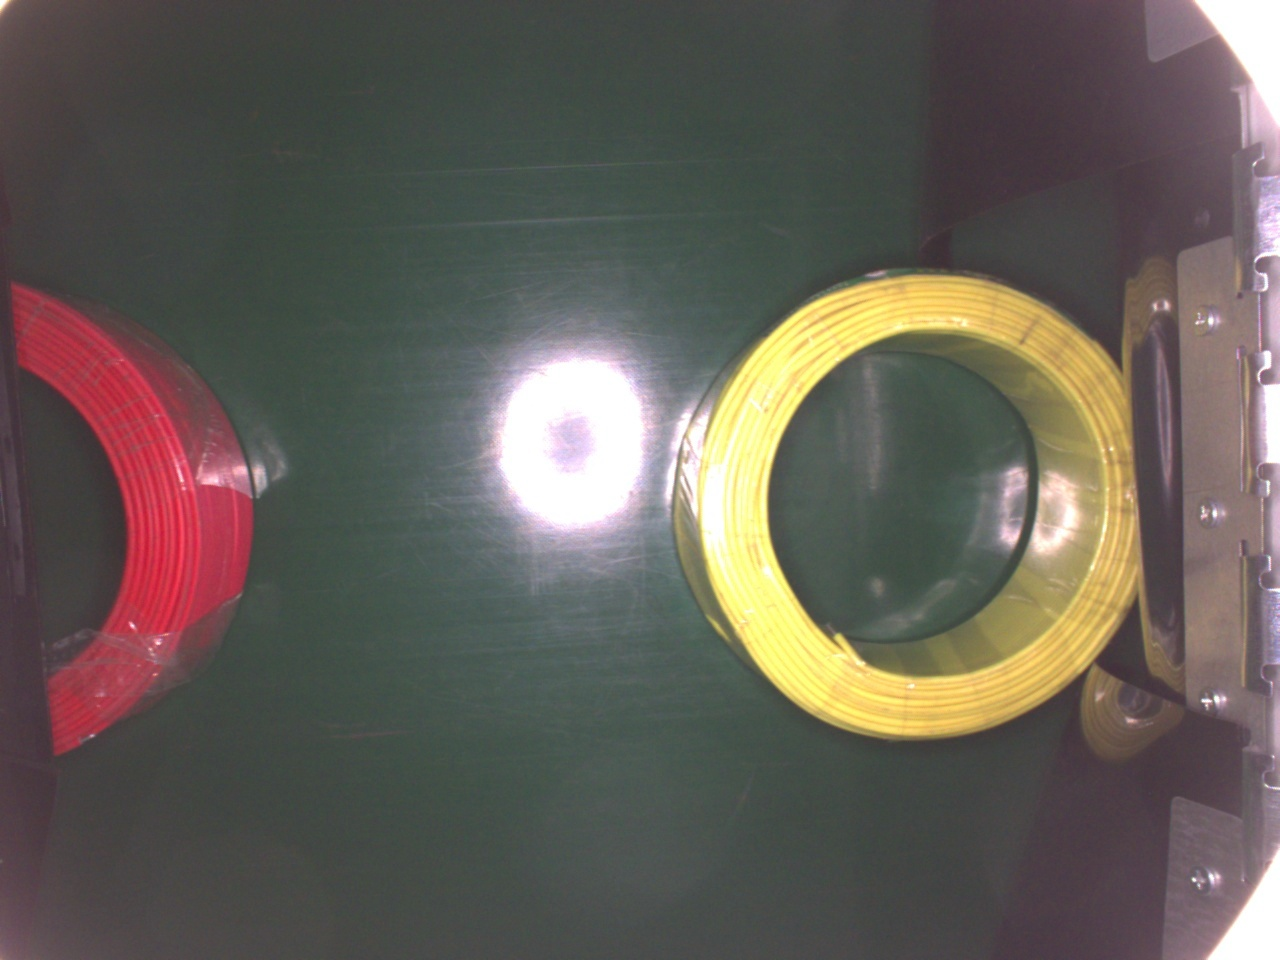red: (9, 279, 255, 762)
yellow: (668, 268, 1144, 742)
